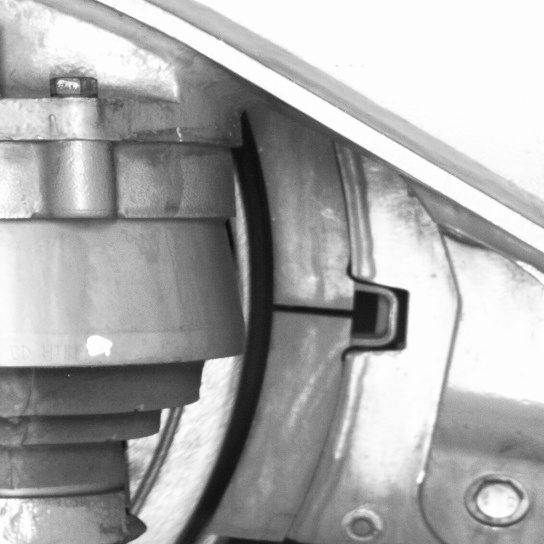KnifeSwitch: (175, 141, 382, 541)
